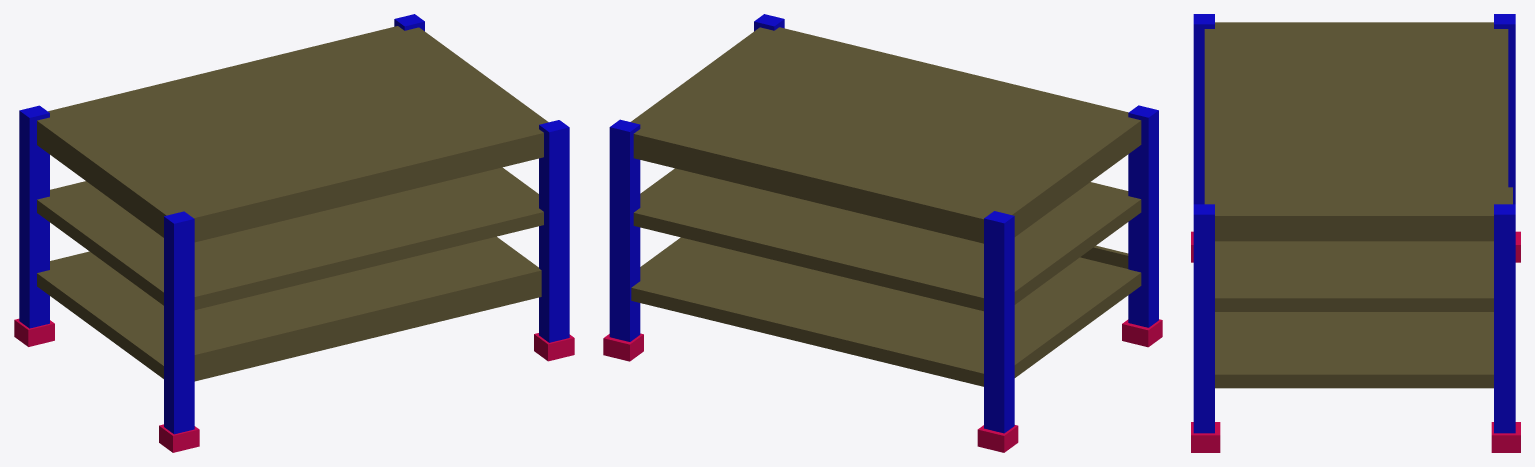
The model's file is PAEA01_TechRoom_Furniture_Tabble_01a.fbx.
3 views of the same model, side by side, from view 1: azimuth 30°, elevation 25°; view 2: azimuth 150°, elevation 25°; view 3: azimuth 270°, elevation 25° (orthographic). The views are drawn at different scales.
Visible parts, largest first — view 1: PAEA01_TechRoom_Furniture_Tabble_01a; view 2: PAEA01_TechRoom_Furniture_Tabble_01a; view 3: PAEA01_TechRoom_Furniture_Tabble_01a.
Boxes of the visible parts, x1,y1,x2,y2 form: PAEA01_TechRoom_Furniture_Tabble_01a: [14, 14, 574, 452]; PAEA01_TechRoom_Furniture_Tabble_01a: [603, 14, 1162, 452]; PAEA01_TechRoom_Furniture_Tabble_01a: [1191, 14, 1520, 452].
Size of the model in its own units: 3.18 by 1.72 by 2.18.
